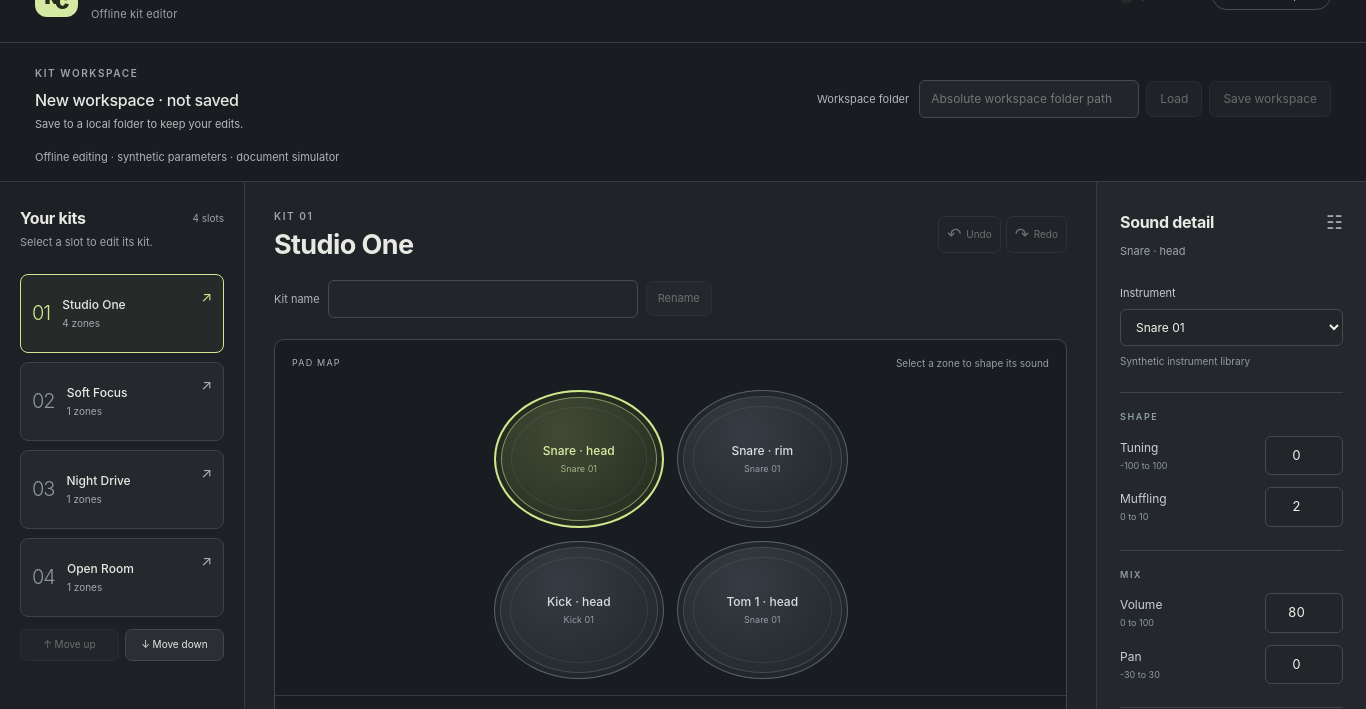
it: kit editing through the Rust dispatcher › requires a reviewed plan, applies it, and displays the core readback report
Expected: the heading "Studio One" is shown, [274, 228, 413, 261]
Replace the text in the number field labelled "Tuning" with "12". click: x=1304, y=455
box: [1265, 436, 1343, 475]
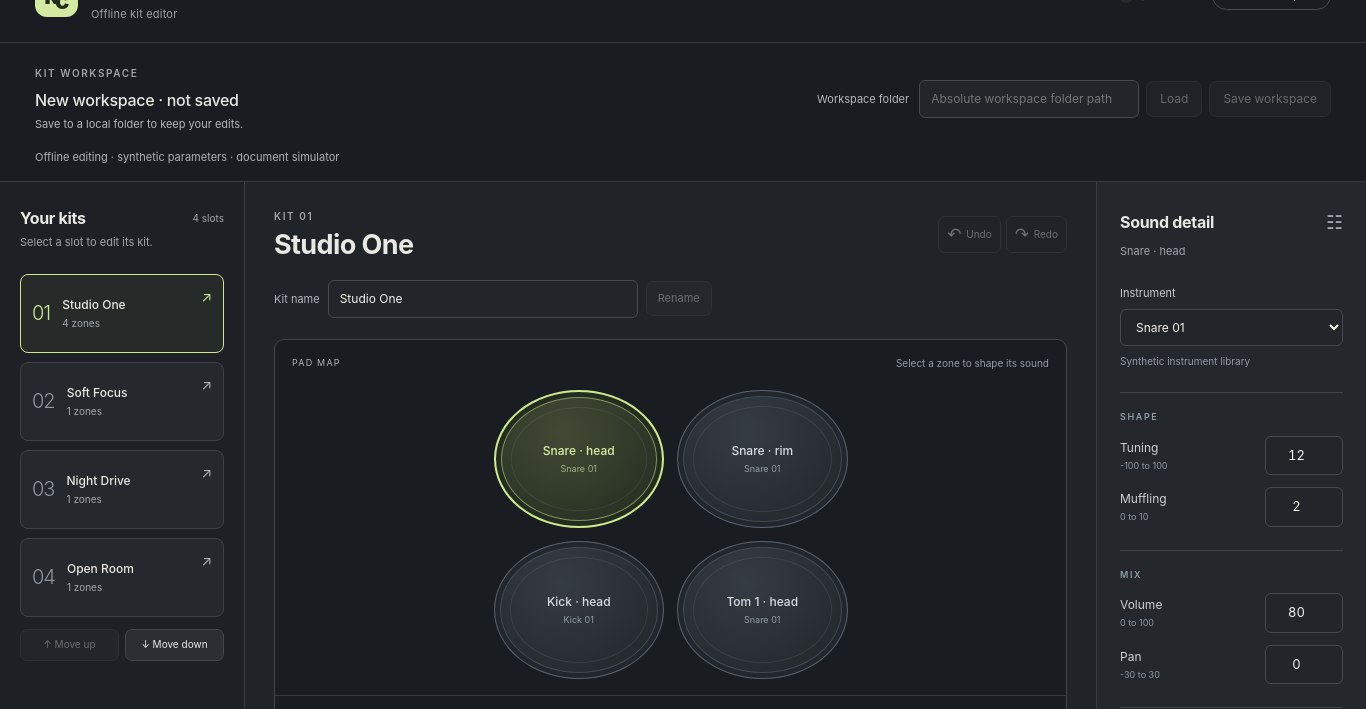
Leave the number field labelled "Tuning", box [1265, 436, 1343, 475]
(page scrolled)
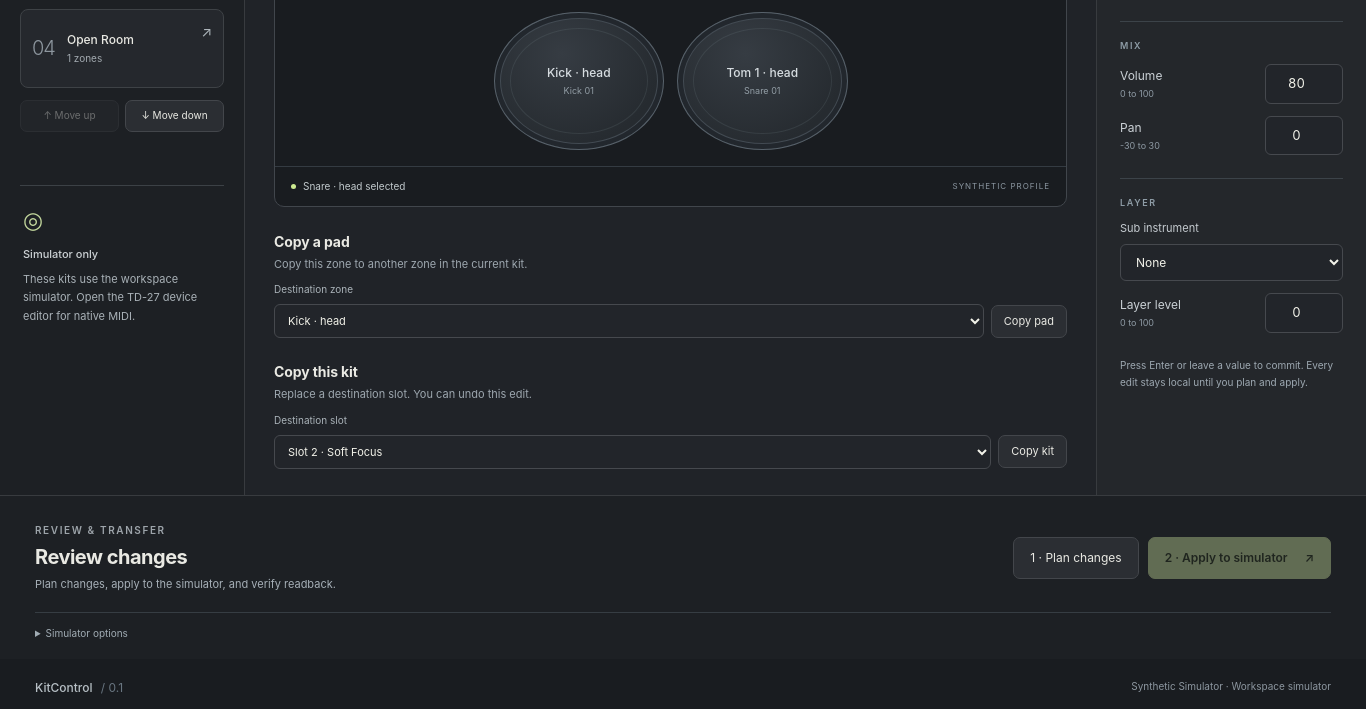
Click the button "1 · Plan changes". click: x=1076, y=558
box: [1013, 536, 1139, 579]
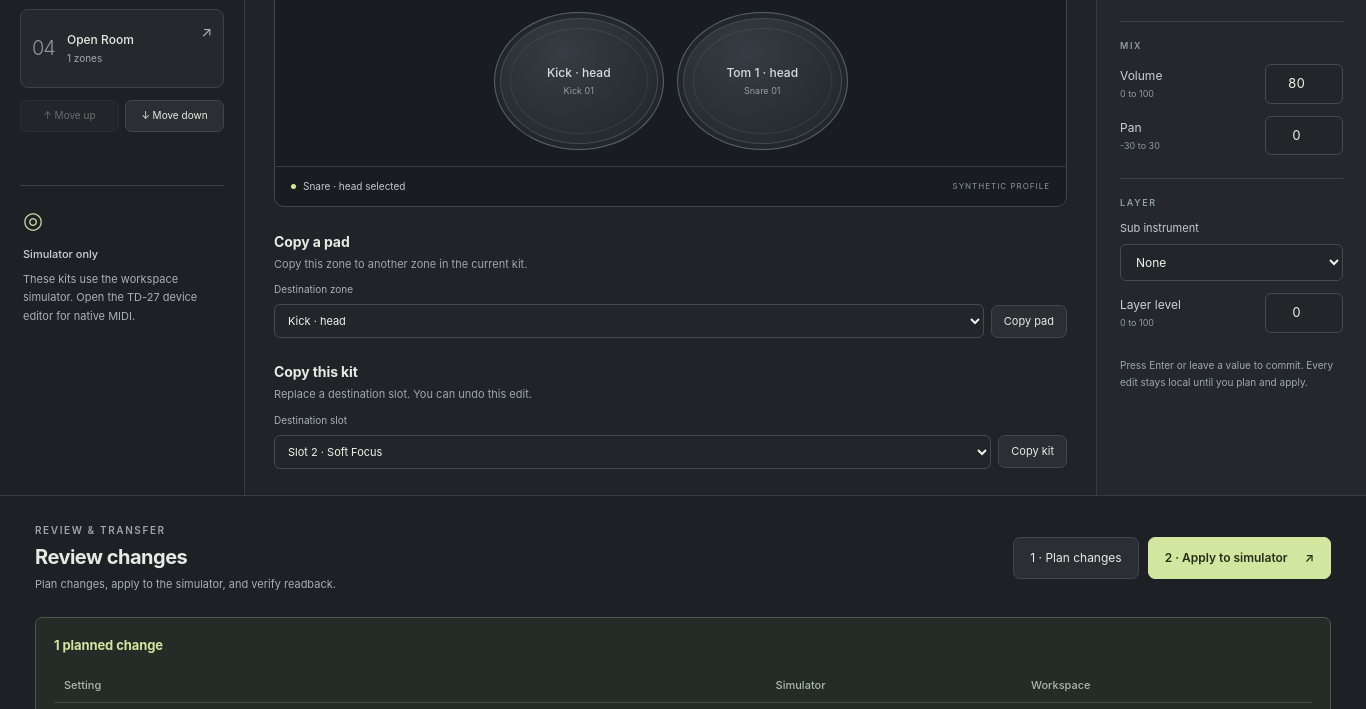
Now the heading "1 planned change" is shown, box [54, 637, 163, 653]
Click the button "2 · Apply to simulator ↗". click: x=1239, y=558
box: [1148, 536, 1331, 579]
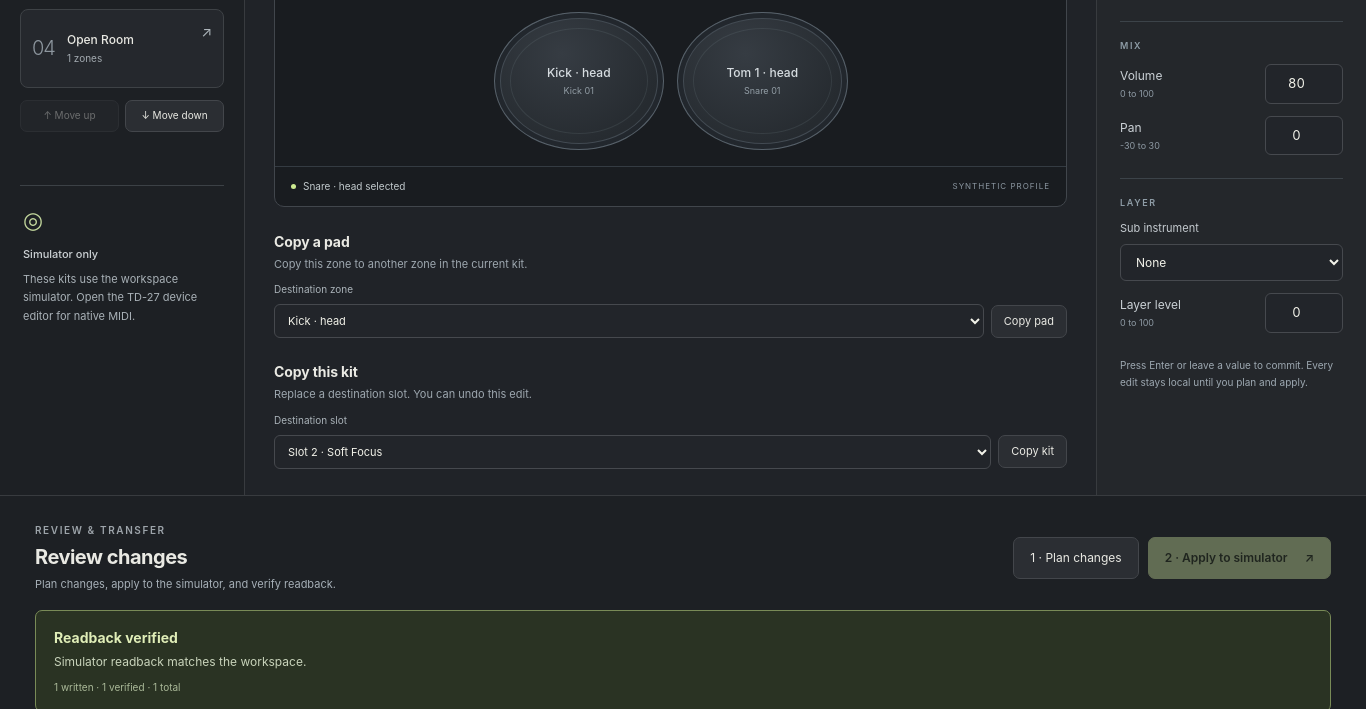
Now the text "Readback verified" is shown, box [54, 629, 178, 646]
Now the text "1 written · 1 verified · 1 total" is shown, box [54, 681, 180, 693]
Now the button "2 · Apply to simulator ↗" is disabled, box [1148, 536, 1331, 579]
